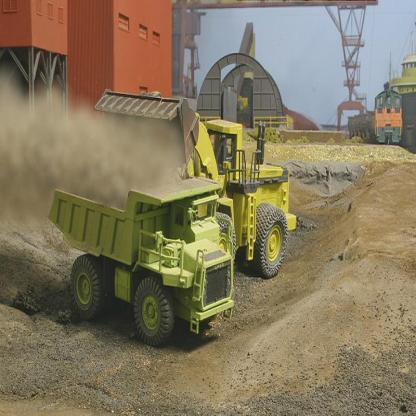bull_dozer/loader/grader: (98, 86, 304, 295)
